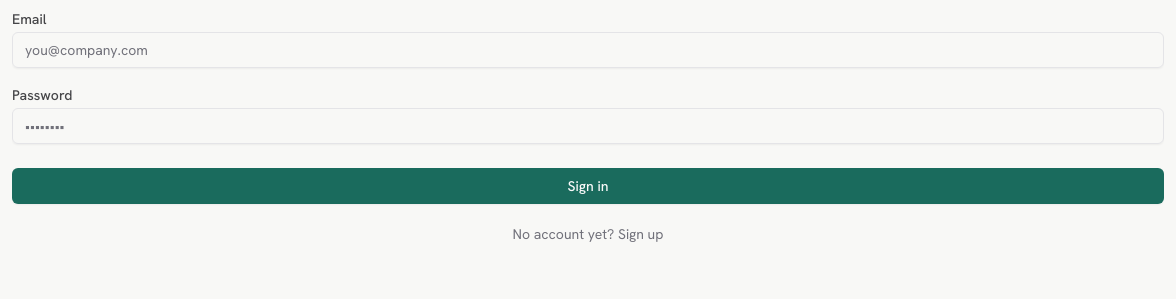
Test: LoginForm submission › shows generic server error on API failure
The image size is (1176, 299).
Type "owner@example.com" into the field labelled "Email" at (588, 50), box x1=12 y1=32 x2=1164 y2=68
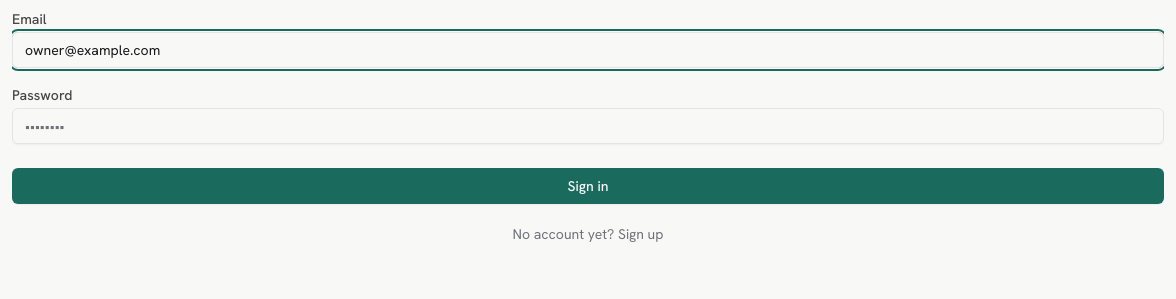
Type "secret123" into the password field labelled "Password" at (588, 126), box x1=12 y1=108 x2=1164 y2=144
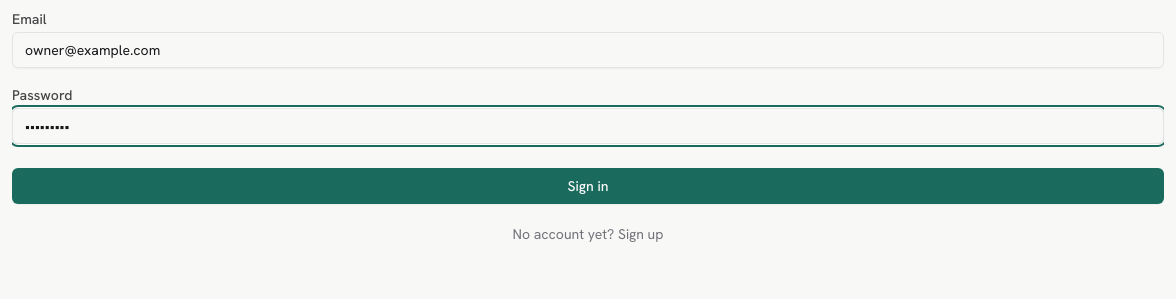
Click the button "Sign in" at (588, 186), box x1=12 y1=168 x2=1164 y2=204
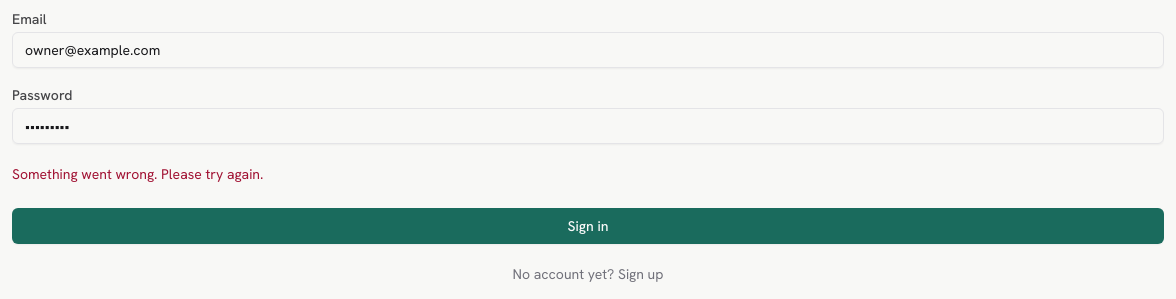
Check: the text "Something went wrong. Please try again." is shown, box x1=12 y1=165 x2=263 y2=183
